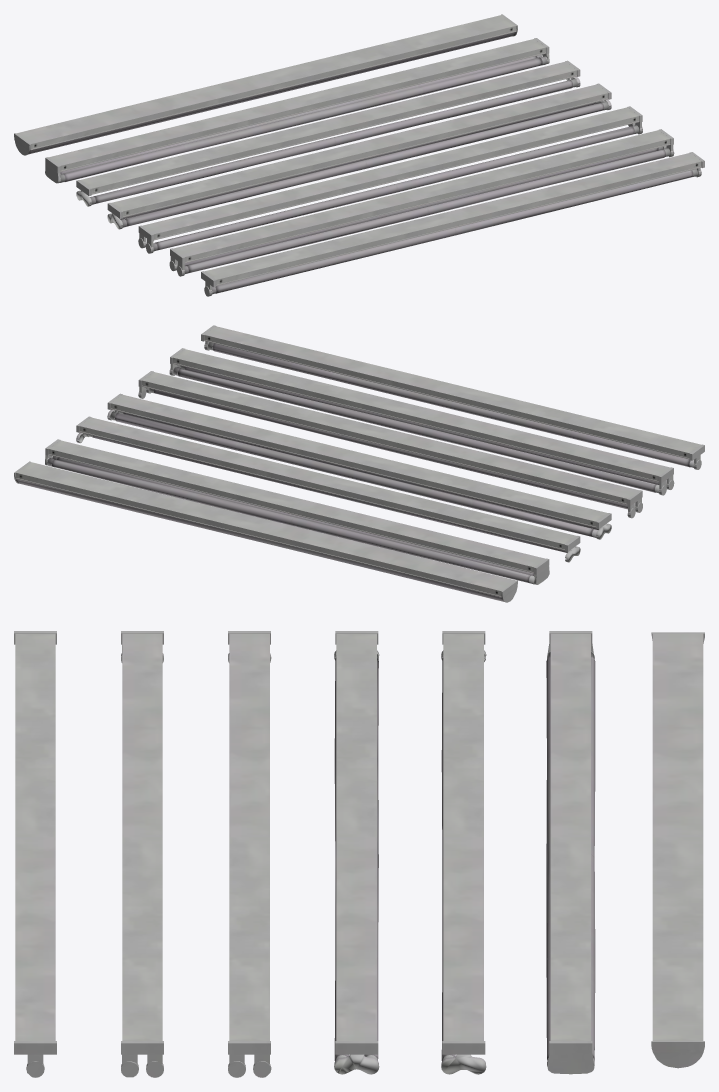
File: mounted_fluorescent_lights.glb
The picture shows the model from 3 angles, top to bottom: view 1: azimuth 30°, elevation 25°; view 2: azimuth 150°, elevation 25°; view 3: azimuth 270°, elevation 25°; orthographic projection. The views are drawn at different scales.
Parts seen in each view (by area): view 1: mounted_fluorescent_lights_a; view 2: mounted_fluorescent_lights_a; view 3: mounted_fluorescent_lights_a.
Boxes of the visible parts, x1=… form: mounted_fluorescent_lights_a: x1=14, y1=14, x2=704, y2=296; mounted_fluorescent_lights_a: x1=14, y1=325, x2=704, y2=602; mounted_fluorescent_lights_a: x1=14, y1=631, x2=704, y2=1077.
Size of the model in its own units: 0.9122 by 0.0353 by 0.6453.
2 materials, 2 textured.
